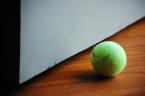tennis ball: (91, 40, 127, 77)
